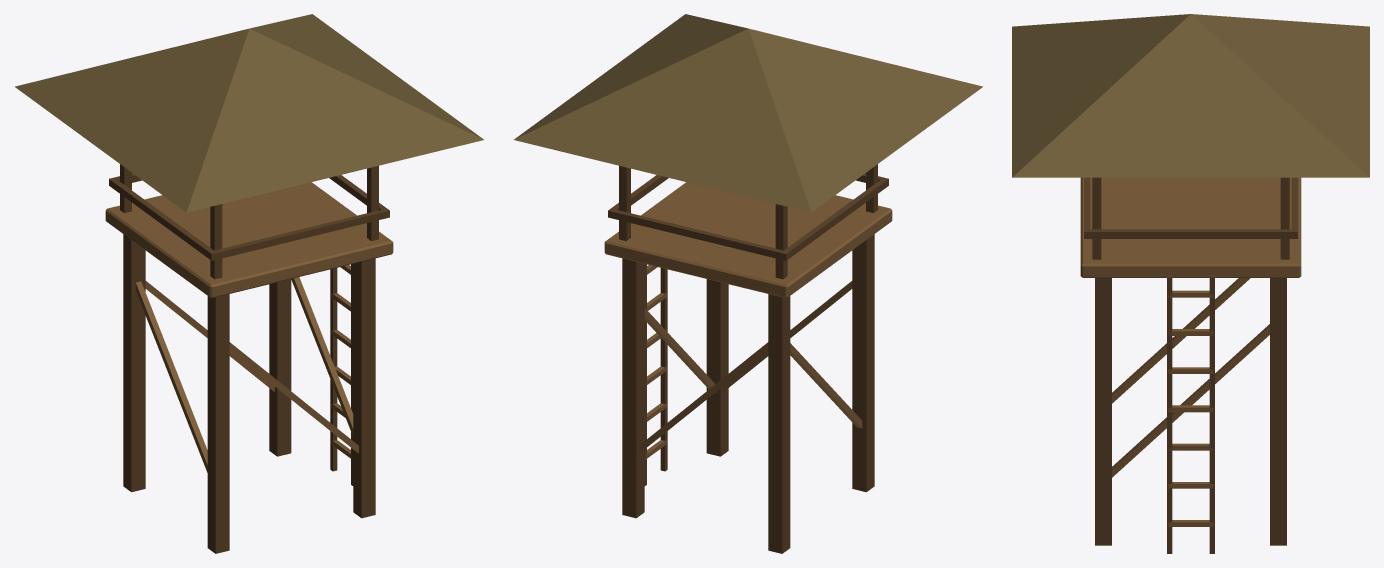
The model's file is env_tower.glb.
The picture shows the model from 3 angles, left to right: view 1: azimuth 30°, elevation 25°; view 2: azimuth 150°, elevation 25°; view 3: azimuth 270°, elevation 25°; orthographic projection. The views are drawn at different scales.
Parts seen in each view (by area): view 1: tower; view 2: tower; view 3: tower.
Part boxes in pixels (<box>): tower: <box>15,14,483,553</box>; tower: <box>514,14,982,553</box>; tower: <box>1012,14,1369,553</box>.
Size of the model in its own units: 5.52 by 8.35 by 5.52.
Materials: 1 (1 with a texture image).
